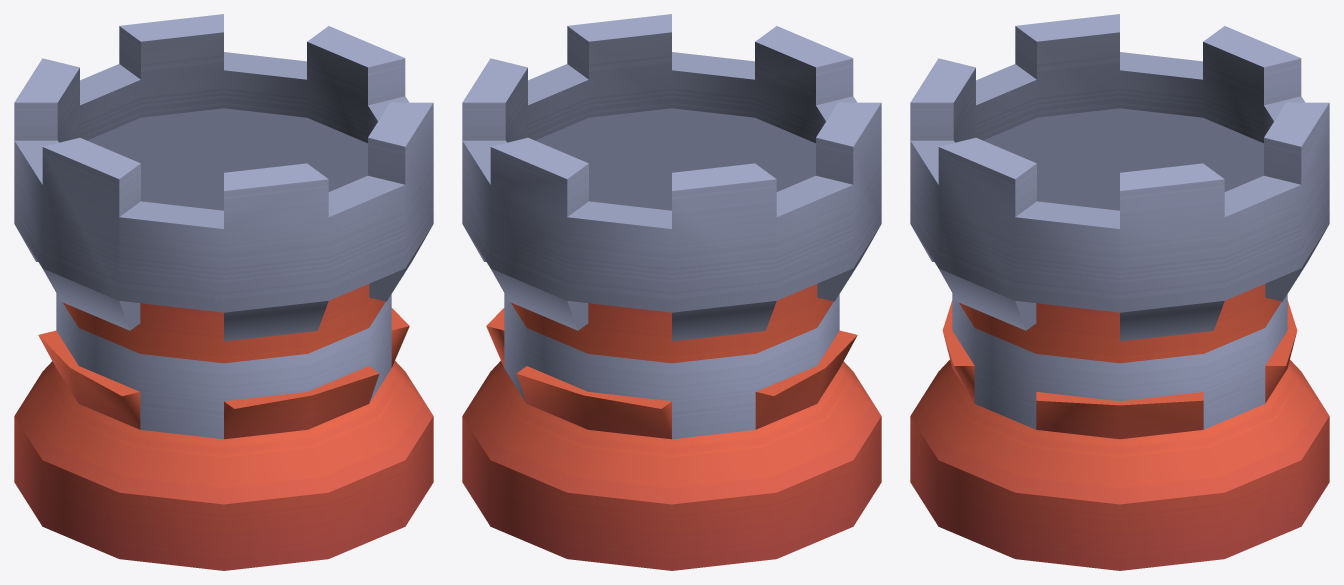
File: tower-round-build-c.glb
The picture shows the model from 3 angles, left to right: view 1: azimuth 30°, elevation 25°; view 2: azimuth 150°, elevation 25°; view 3: azimuth 270°, elevation 25°; orthographic projection.
Visible parts, largest first — view 1: tower-round-build-c; view 2: tower-round-build-c; view 3: tower-round-build-c.
Part boxes in pixels (box(x1,y1,x2,y2)): tower-round-build-c: box(14, 14, 433, 570); tower-round-build-c: box(462, 14, 881, 570); tower-round-build-c: box(910, 14, 1329, 570).
Bounding box in the file's own units: 3 × 3 × 3.
Materials: 1 (1 with a texture image).
